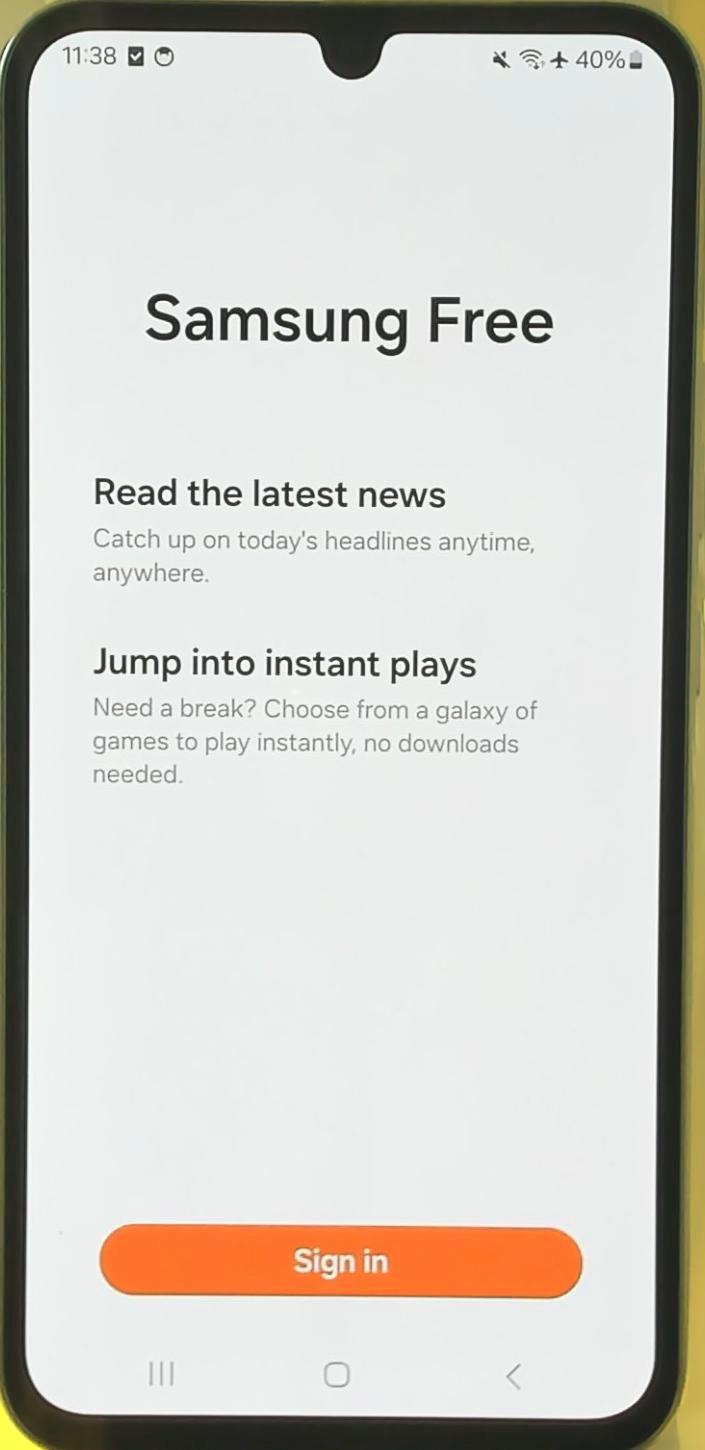CommunBotton: (85, 1208, 592, 1313)
